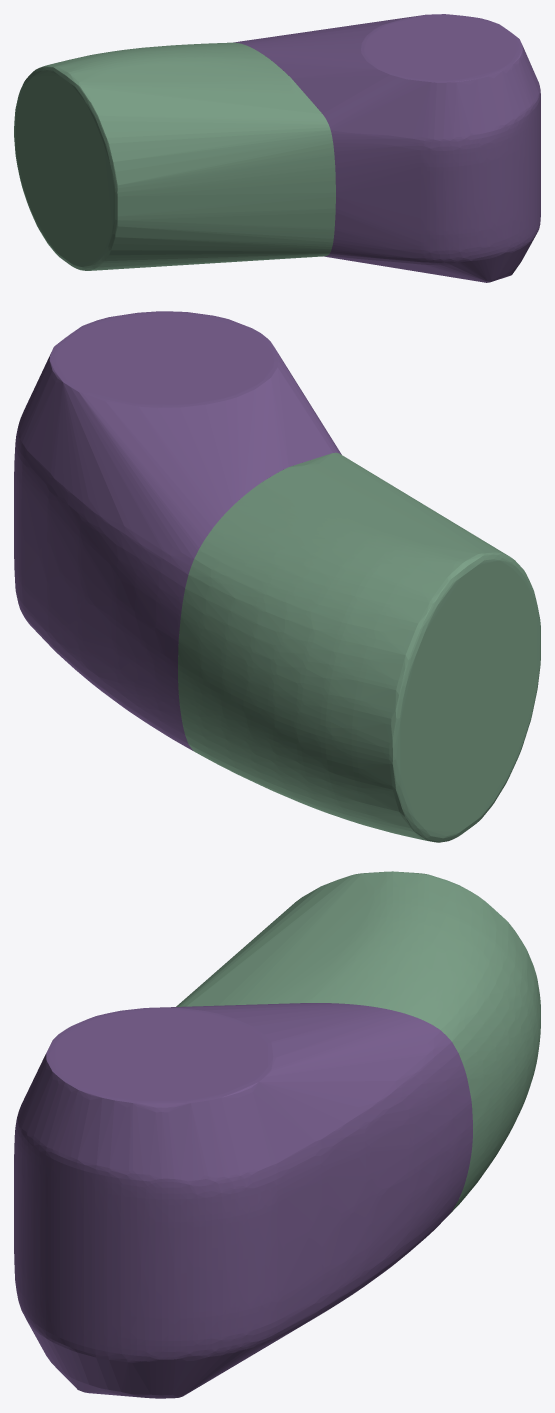
File: arm_l3.obj
3 views of the same model, one above another, from view 1: azimuth 30°, elevation 25°; view 2: azimuth 150°, elevation 25°; view 3: azimuth 270°, elevation 25° (orthographic). The views are drawn at different scales.
Visible parts, largest first — view 1: geometry_0, geometry_1; view 2: geometry_0, geometry_1; view 3: geometry_1, geometry_0.
Boxes of the visible parts, x1=… form: geometry_0: x1=14, y1=42, x2=335, y2=270; geometry_1: x1=233, y1=14, x2=540, y2=282; geometry_0: x1=178, y1=452, x2=540, y2=842; geometry_1: x1=14, y1=311, x2=341, y2=750; geometry_1: x1=14, y1=1003, x2=472, y2=1398; geometry_0: x1=176, y1=871, x2=540, y2=1215.
Size of the model in its own units: 0.1648 by 0.0882 by 0.1376.
